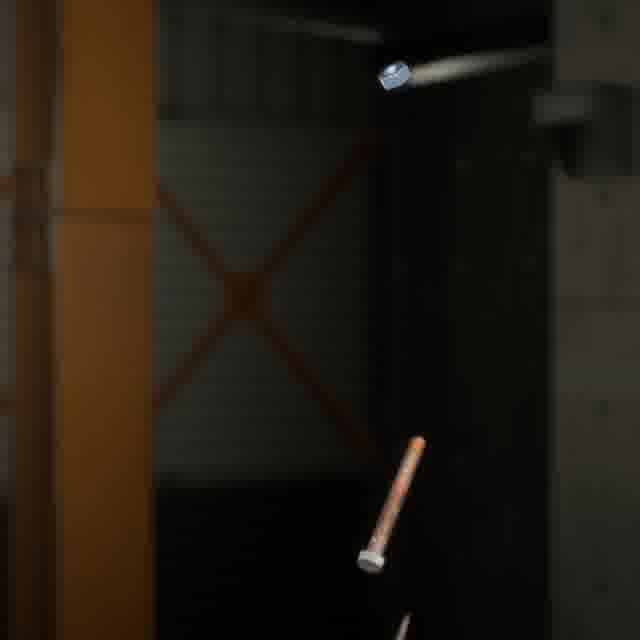bolt: (352, 431, 430, 577)
nut: (373, 56, 416, 94)
